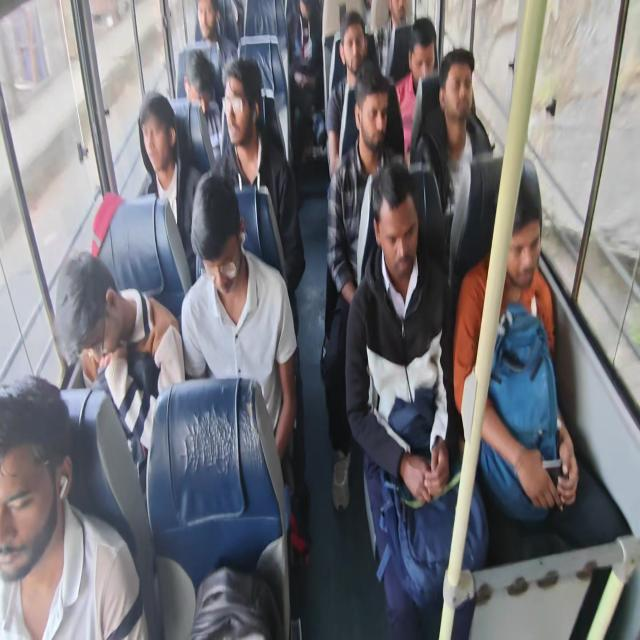person: (452, 157, 632, 560), (344, 160, 489, 638), (0, 374, 150, 639), (320, 60, 406, 512), (180, 172, 298, 464), (53, 249, 185, 500), (208, 56, 306, 336), (411, 47, 494, 269), (138, 91, 202, 283), (228, 0, 290, 161), (326, 10, 370, 180), (394, 17, 438, 165), (286, 0, 324, 171), (180, 0, 238, 111), (183, 48, 222, 162), (372, 0, 412, 83), (194, 0, 238, 74)
